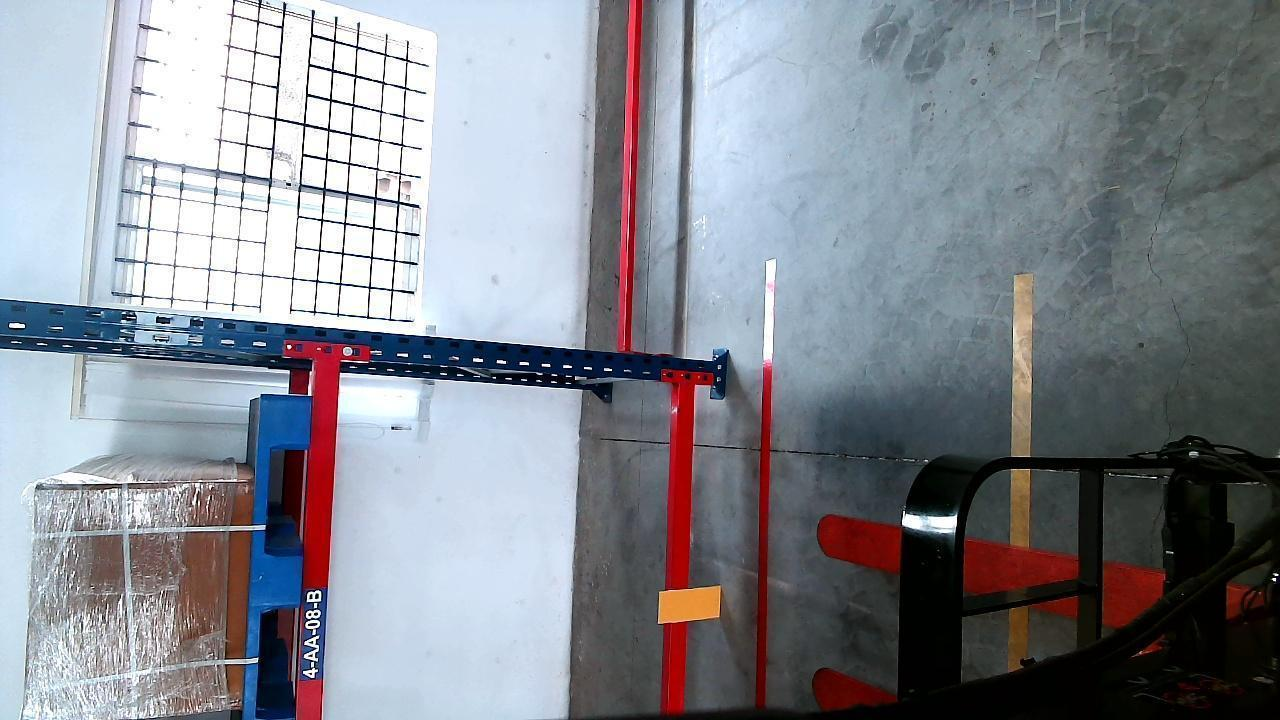red_line: (751, 259, 777, 713)
yellow_line: (1010, 266, 1032, 596)
